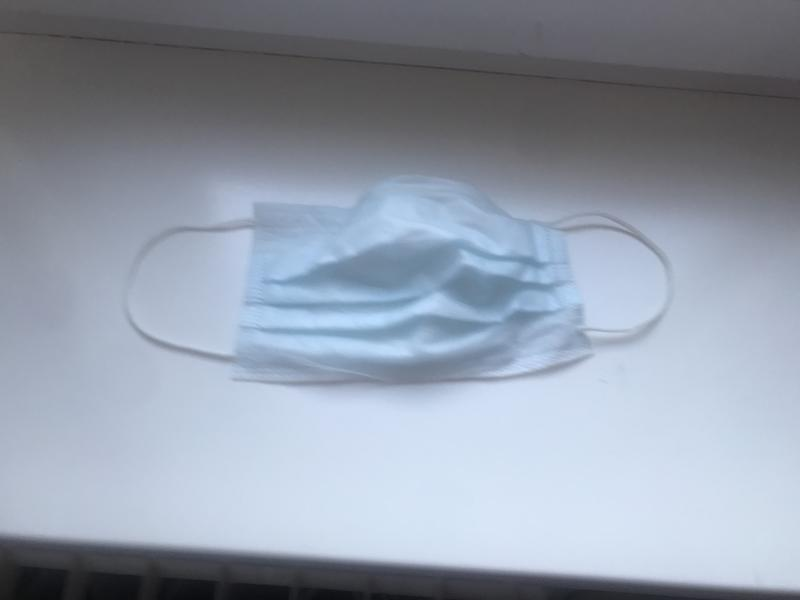medical_mask: (121, 180, 674, 382)
